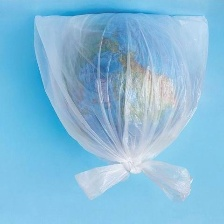plastic_bag: (27, 10, 218, 205)
